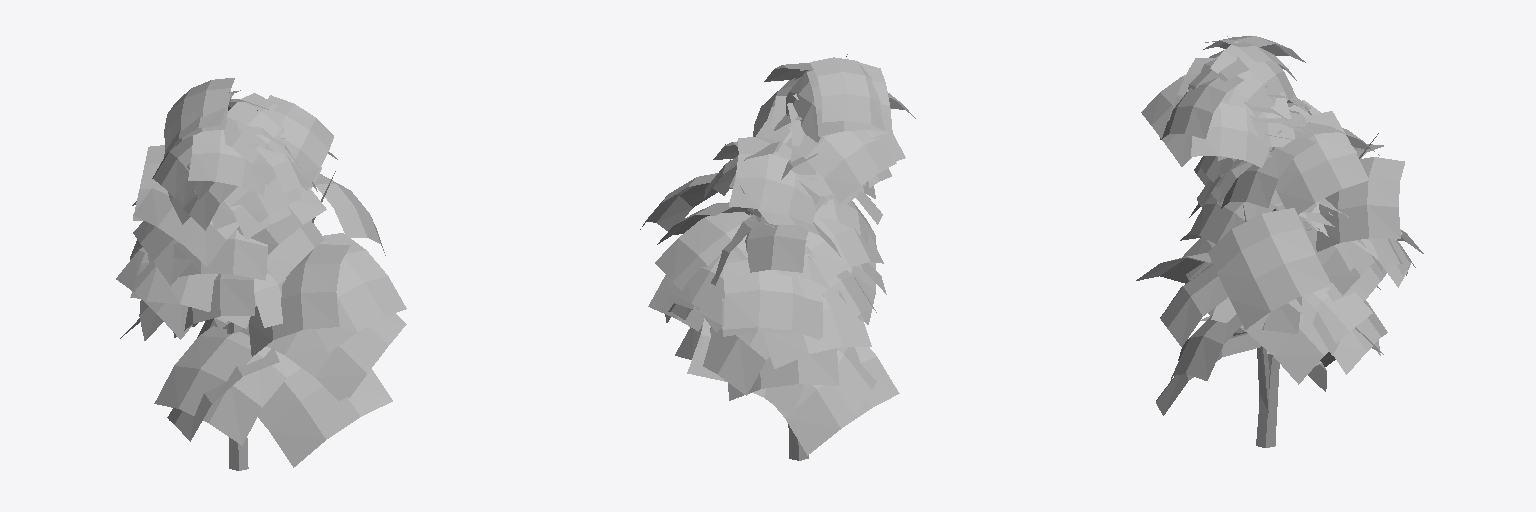
Rendered from birchA.obj.
3 views of the same model, side by side, from view 1: azimuth 30°, elevation 25°; view 2: azimuth 150°, elevation 25°; view 3: azimuth 270°, elevation 25° (orthographic).
Parts seen in each view (by area): view 1: Default; view 2: Default; view 3: Default.
Boxes of the visible parts, x1=… form: Default: x1=116, y1=78, x2=406, y2=470; Default: x1=640, y1=54, x2=915, y2=460; Default: x1=1136, y1=36, x2=1423, y2=447.
Bounding box in the file's own units: 9.67 × 15.85 × 10.47.